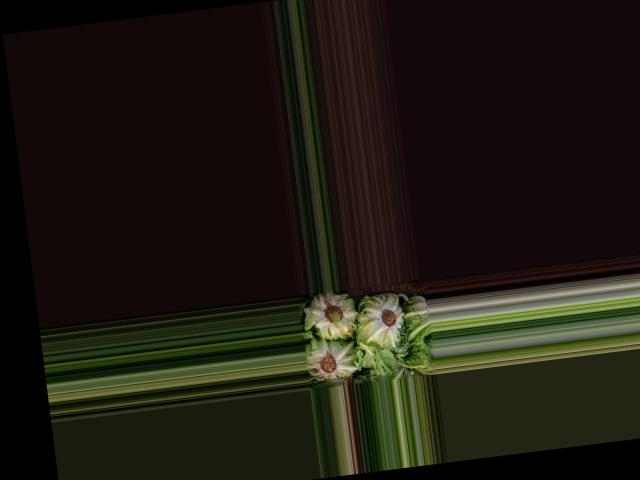lettuce: (303, 334, 359, 384)
